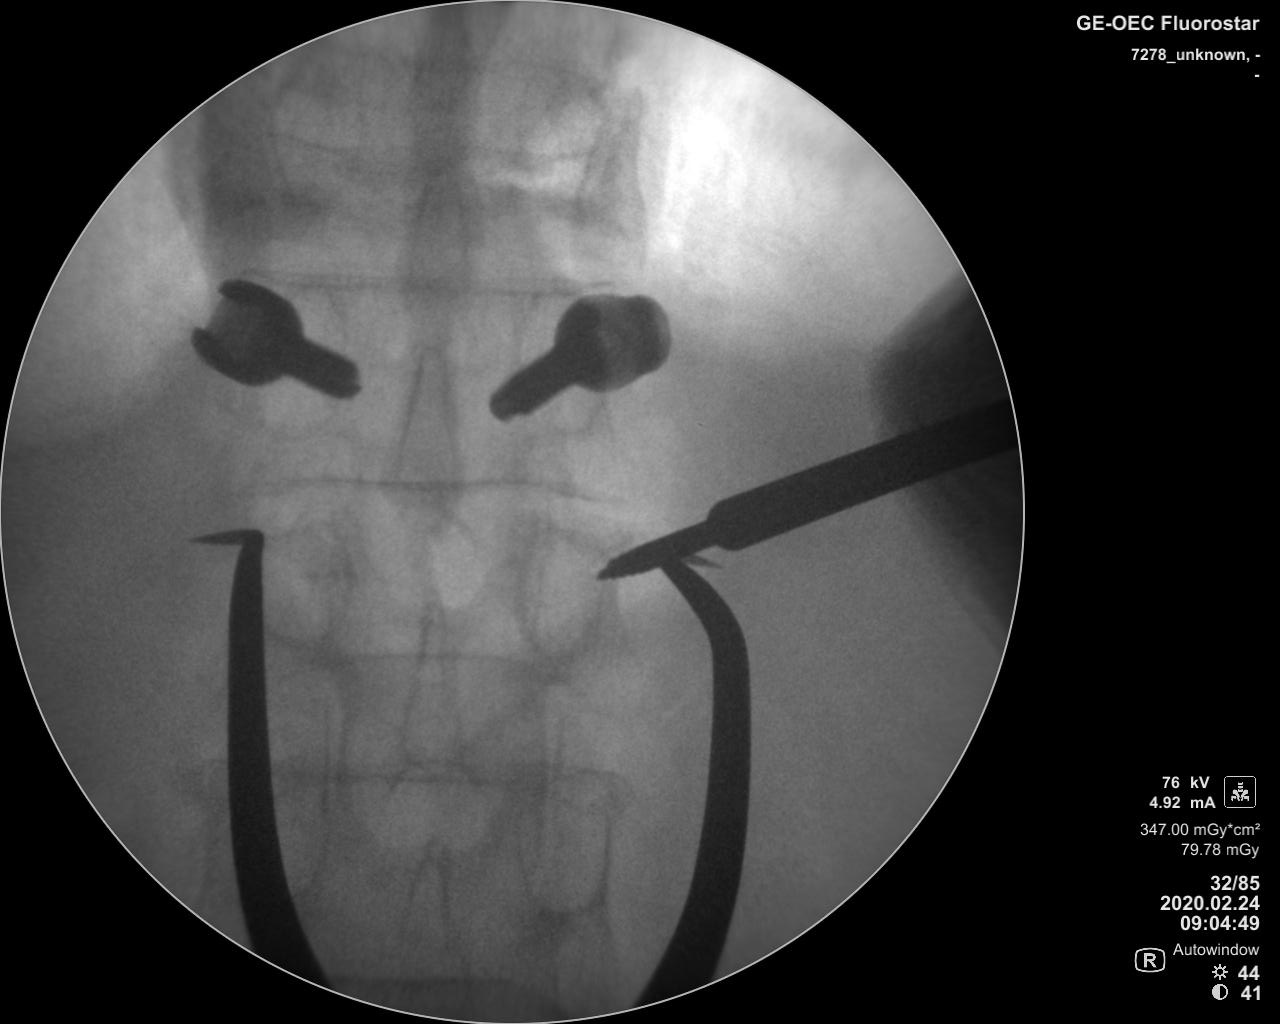eyes: (250, 285, 341, 434), (518, 284, 602, 437), (519, 785, 613, 912), (518, 531, 607, 659), (264, 544, 344, 643)
line: (239, 470, 605, 507), (245, 265, 582, 301), (275, 650, 563, 678), (278, 764, 546, 790)
nose: (385, 334, 465, 536), (394, 582, 470, 773), (393, 831, 464, 1009), (408, 11, 478, 176), (399, 174, 474, 322)
